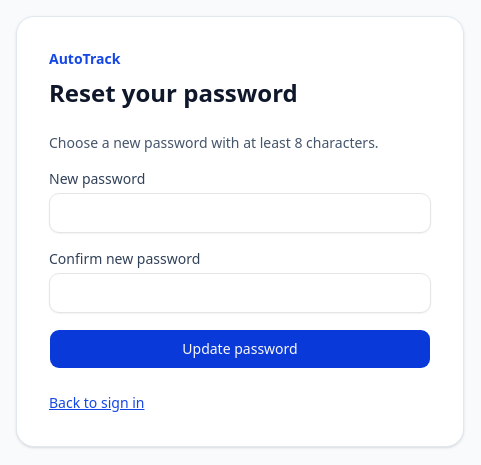
Test case: password update › an expired session during update offers another link: {"status":401}
In the password field labelled "New password": (240, 213) [49,193,431,233], type "new-password-123"
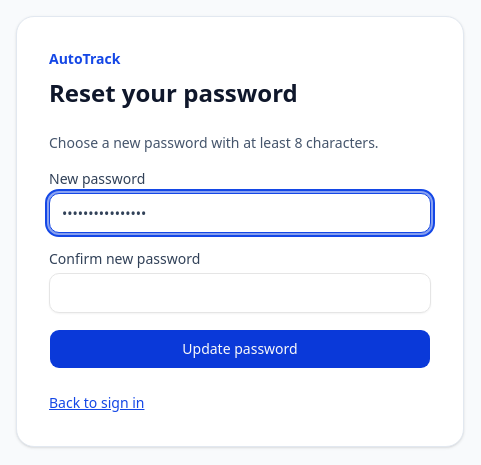
In the password field labelled "Confirm new password": (240, 293) [49,273,431,313], type "new-password-123"
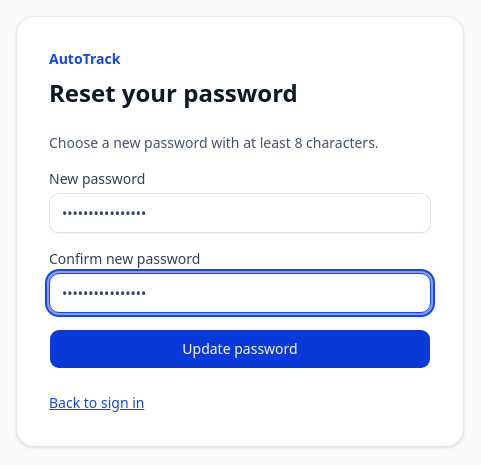
Click the button "Update password": (240, 349) [49,329,431,369]
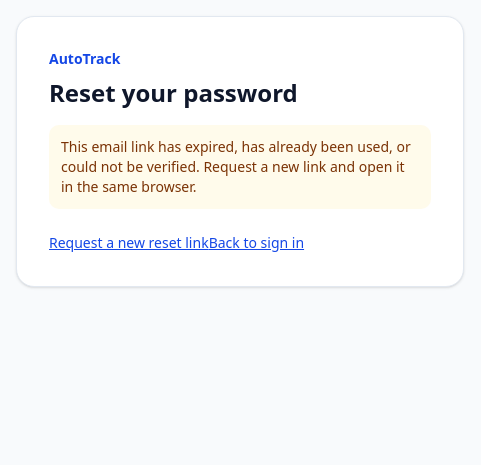
Expected: the message shows "expired", [61,137,411,196]
Expected: the text labelled "new password" is gone
